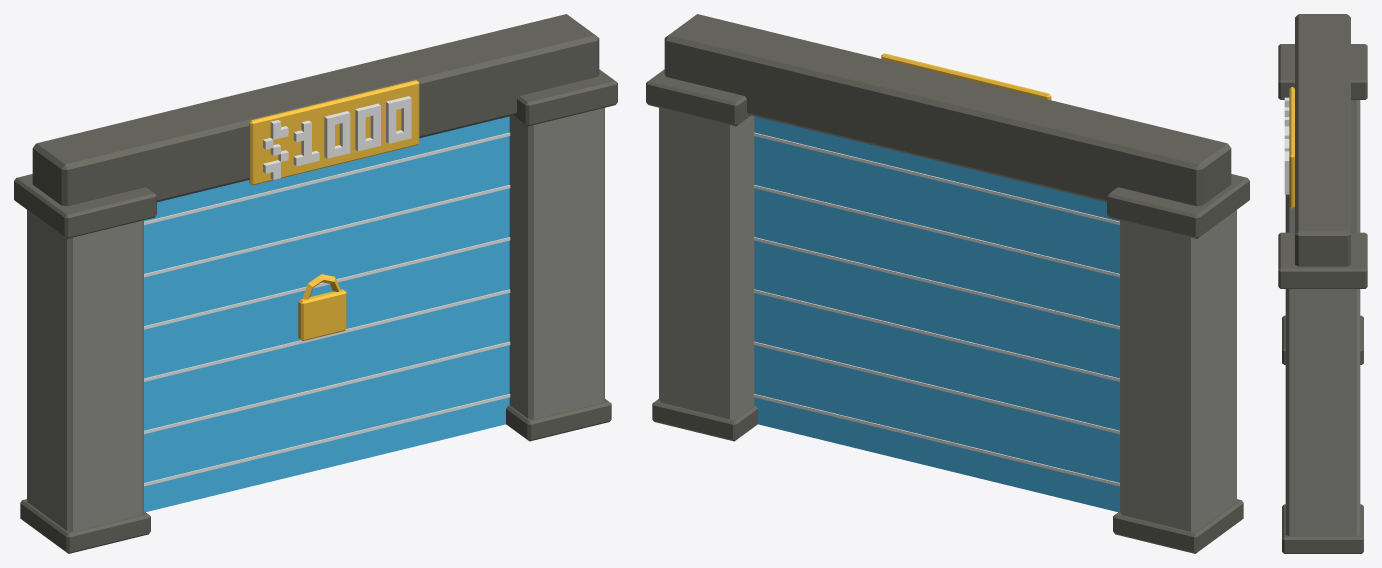
Rendered from ZoneGate.fbx.
3 views of the same model, side by side, from view 1: azimuth 30°, elevation 25°; view 2: azimuth 150°, elevation 25°; view 3: azimuth 270°, elevation 25° (orthographic). The views are drawn at different scales.
Visible parts, largest first — view 1: ZoneGate, ZoneGate_Barrier; view 2: ZoneGate, ZoneGate_Barrier; view 3: ZoneGate.
Part boxes in pixels (x1,y1,x2,y2): ZoneGate: (14,14,617,553); ZoneGate_Barrier: (144,116,510,512); ZoneGate: (646,14,1249,553); ZoneGate_Barrier: (753,116,1119,512); ZoneGate: (1278,14,1367,553).
Size of the model in its own units: 28.8 by 19.1 by 4.8.
1 material, 1 textured.
